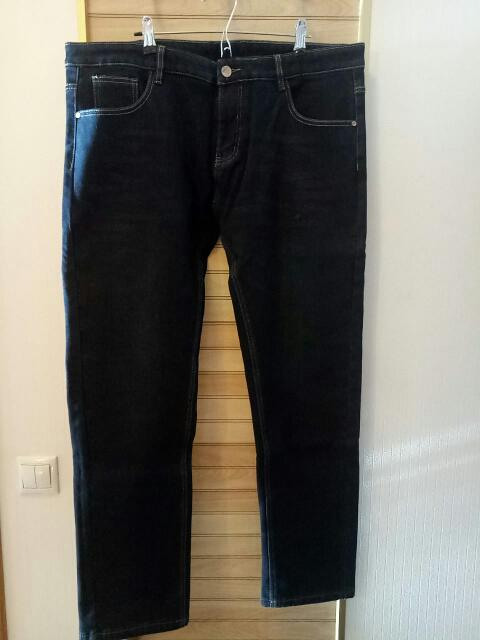jeans: (42, 28, 380, 619)
